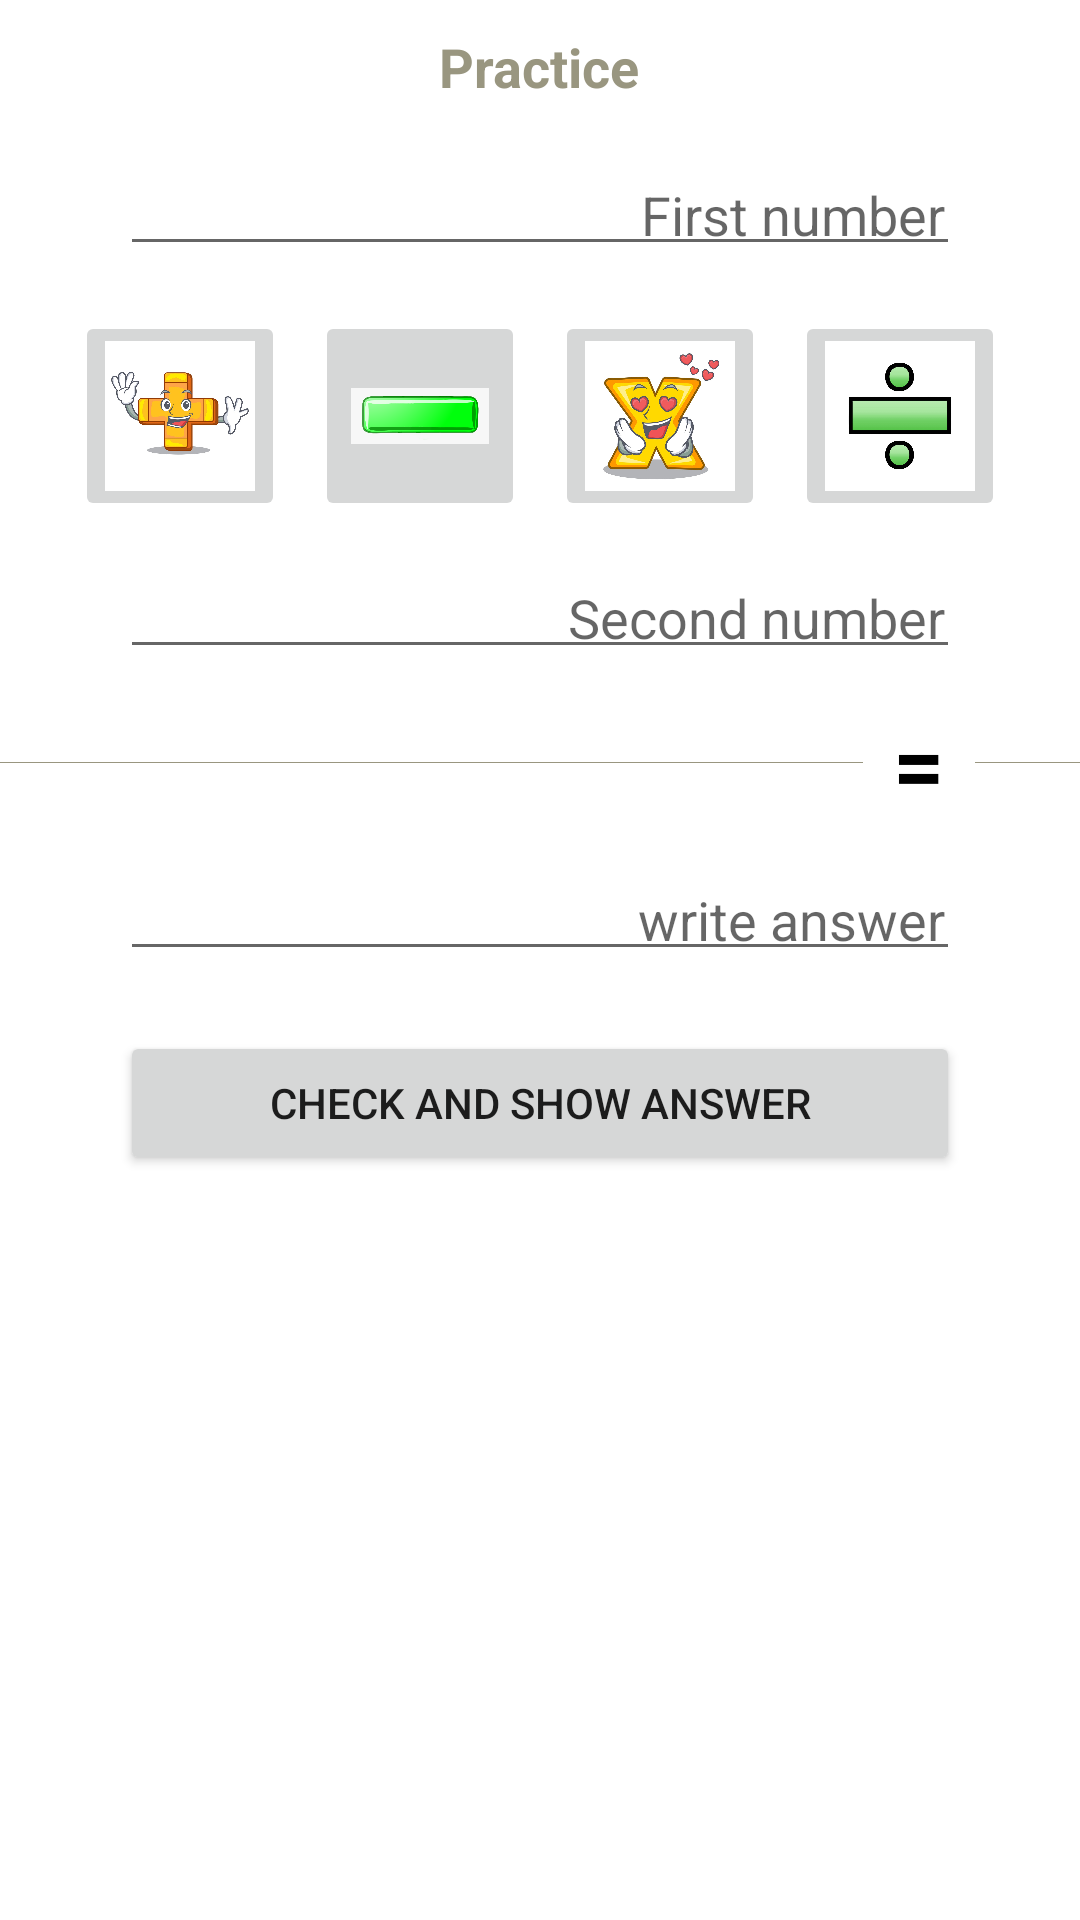

Icon click points for this 1080px x 1920px phone screenshot, format point (x, y):
add: point (180, 416)
div: point (900, 416)
minus: point (420, 416)
multi: point (660, 416)
